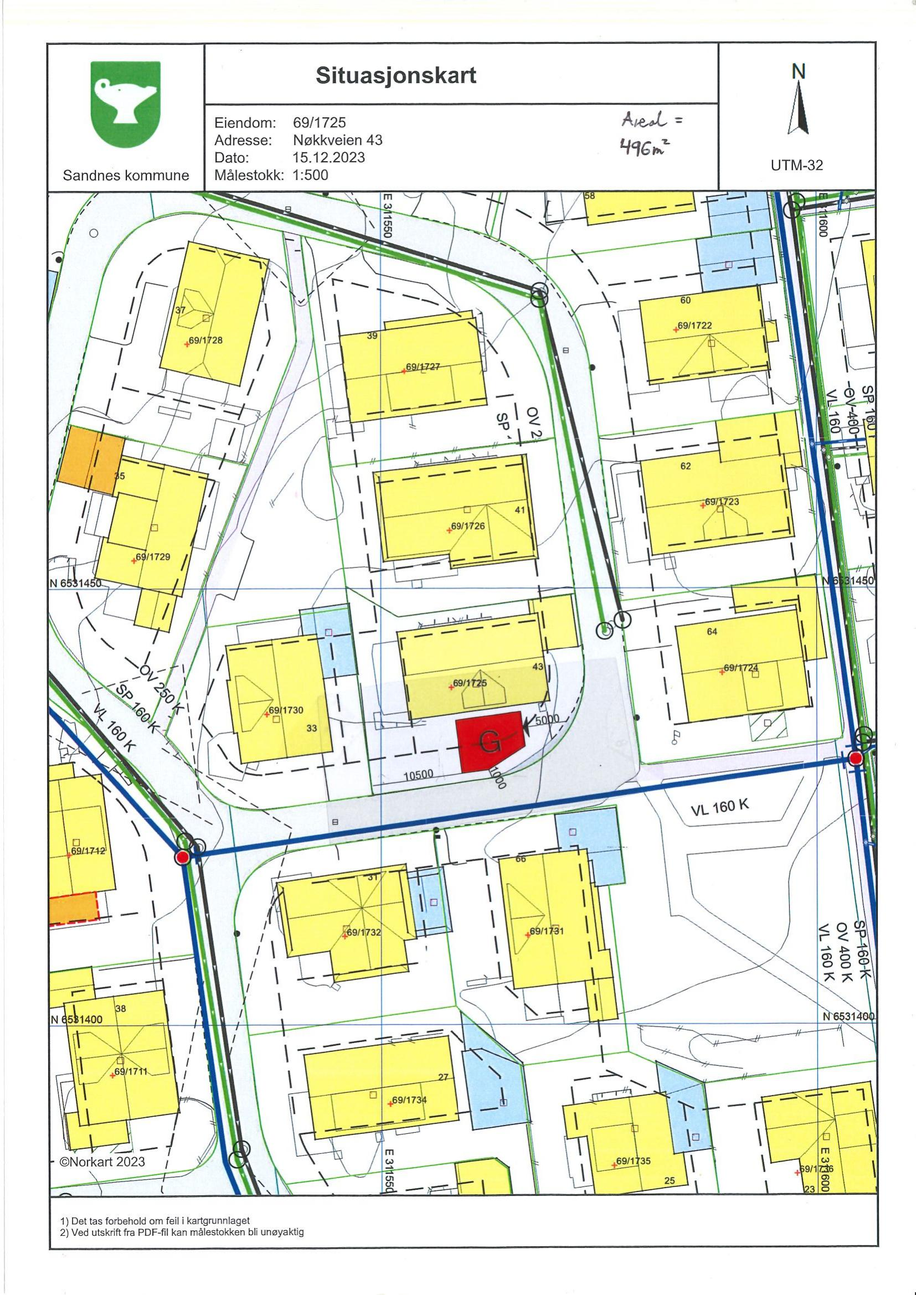situasjonskart: (47, 190, 881, 1194)
